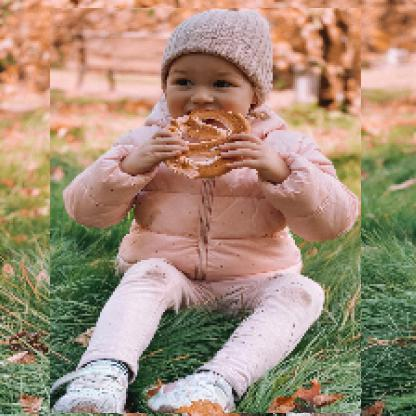child: (51, 9, 363, 415)
